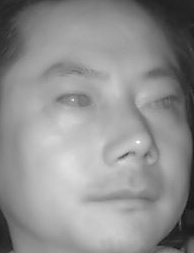eye: (48, 86, 96, 113), (142, 91, 180, 114)
mouth: (85, 178, 159, 219)
